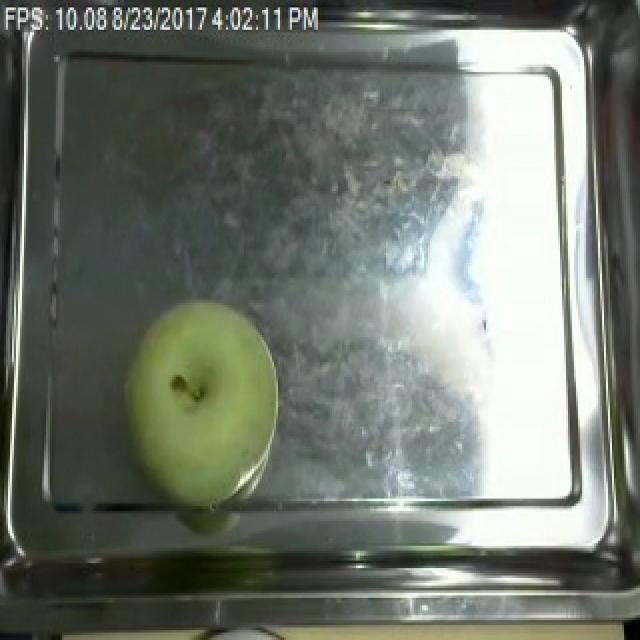50-_ripeness: (113, 295, 285, 519)
